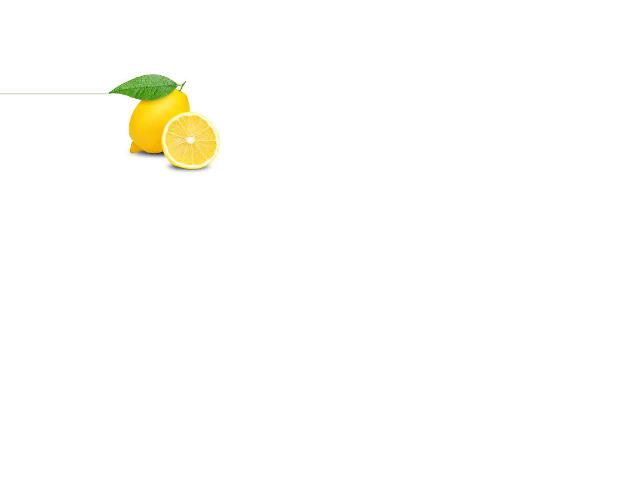lemon: (120, 78, 194, 158)
